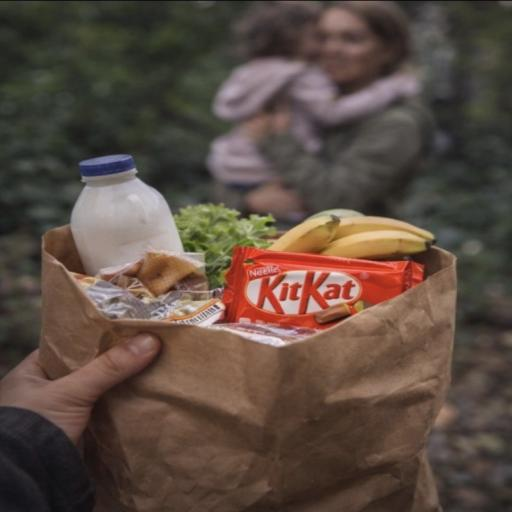kitkat: (205, 216, 472, 394)
